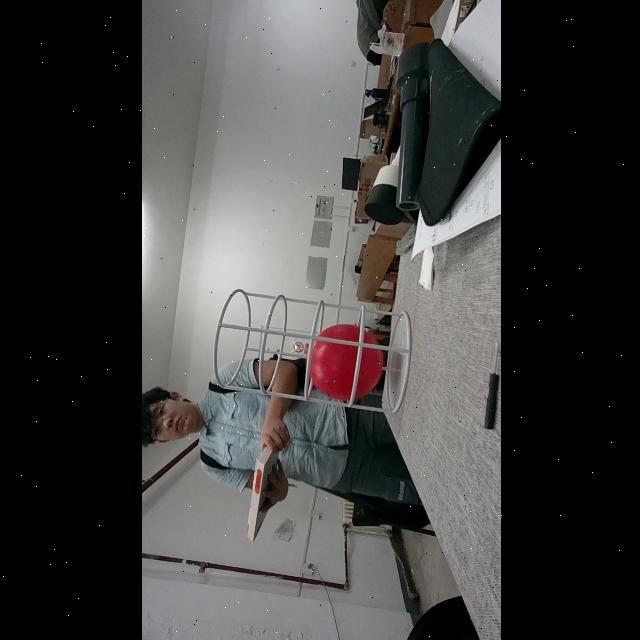R: (306, 324, 382, 401)
S: (211, 289, 409, 415)
